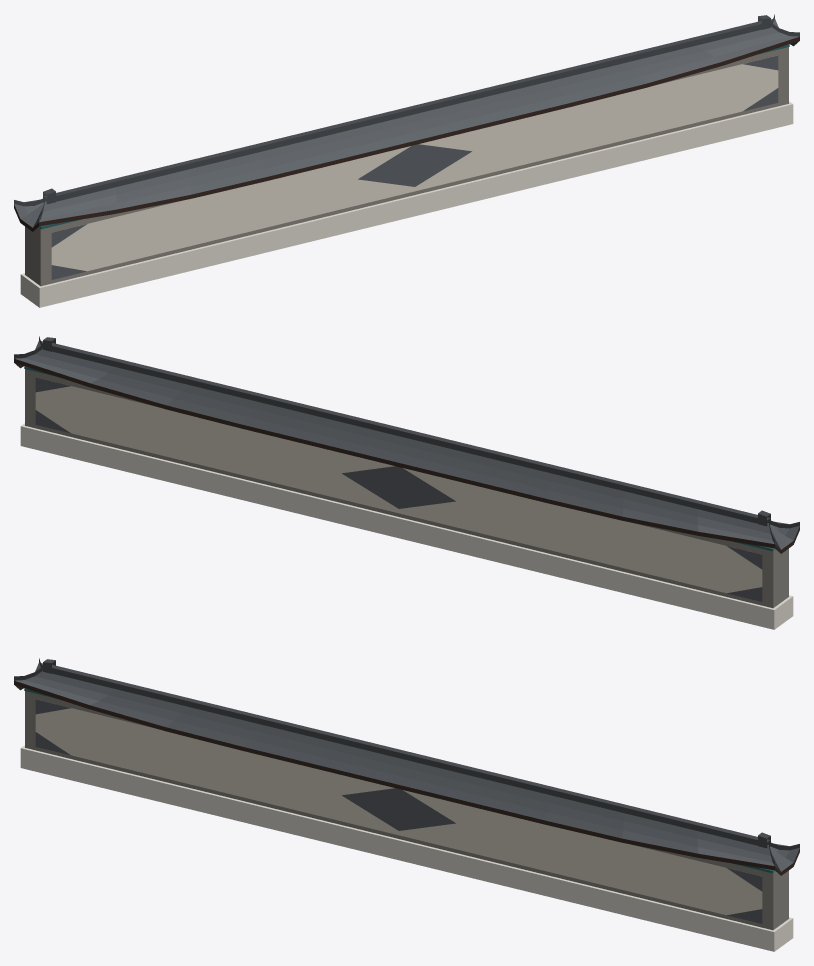
3 views of the same model, one above another, from view 1: azimuth 30°, elevation 25°; view 2: azimuth 150°, elevation 25°; view 3: azimuth 330°, elevation 25° (orthographic).
Visible parts, largest first — view 1: YM41-12 大影壁 Da Yingbi; view 2: YM41-12 大影壁 Da Yingbi; view 3: YM41-12 大影壁 Da Yingbi.
Part boxes in pixels (<box>): YM41-12 大影壁 Da Yingbi: <box>14,14,799,307</box>; YM41-12 大影壁 Da Yingbi: <box>14,336,799,629</box>; YM41-12 大影壁 Da Yingbi: <box>14,658,799,951</box>.
Bounding box in the file's own units: 42.3 × 5.59 × 2.42.
